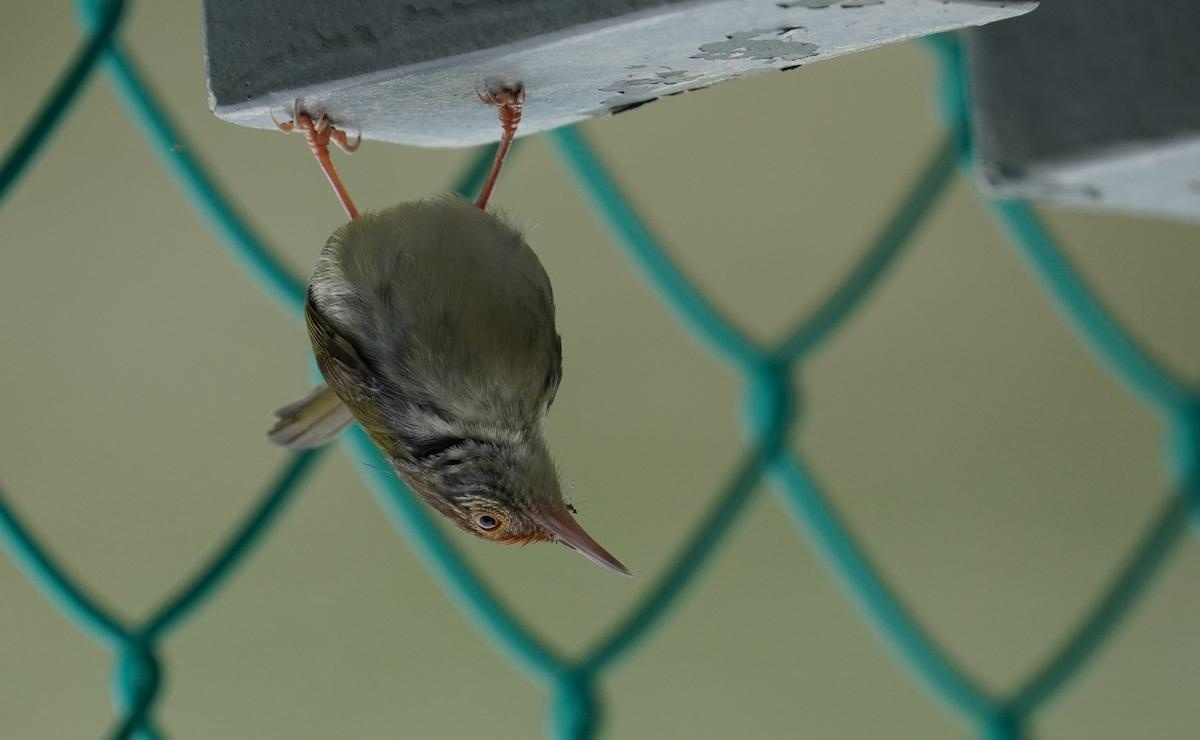tailorbird: (249, 83, 628, 597)
